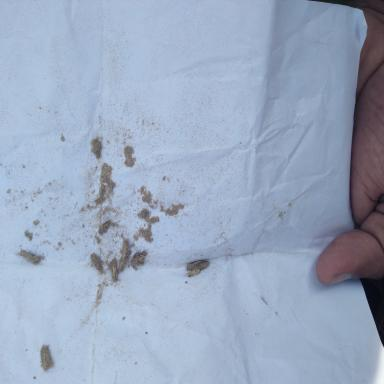pbw: (98, 220, 112, 234), (111, 260, 119, 282), (119, 255, 129, 272), (187, 258, 201, 270), (187, 266, 201, 276), (121, 241, 127, 262), (197, 261, 210, 270)
